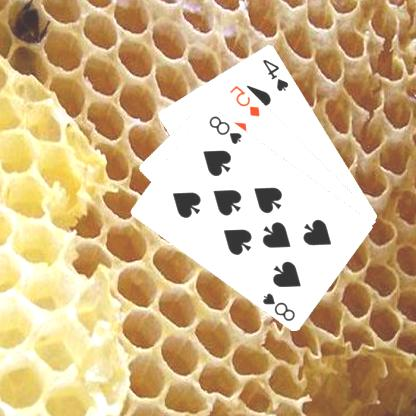4S: (261, 56, 292, 93)
5D: (228, 82, 263, 118)
8S: (208, 112, 245, 146), (261, 289, 298, 323)
